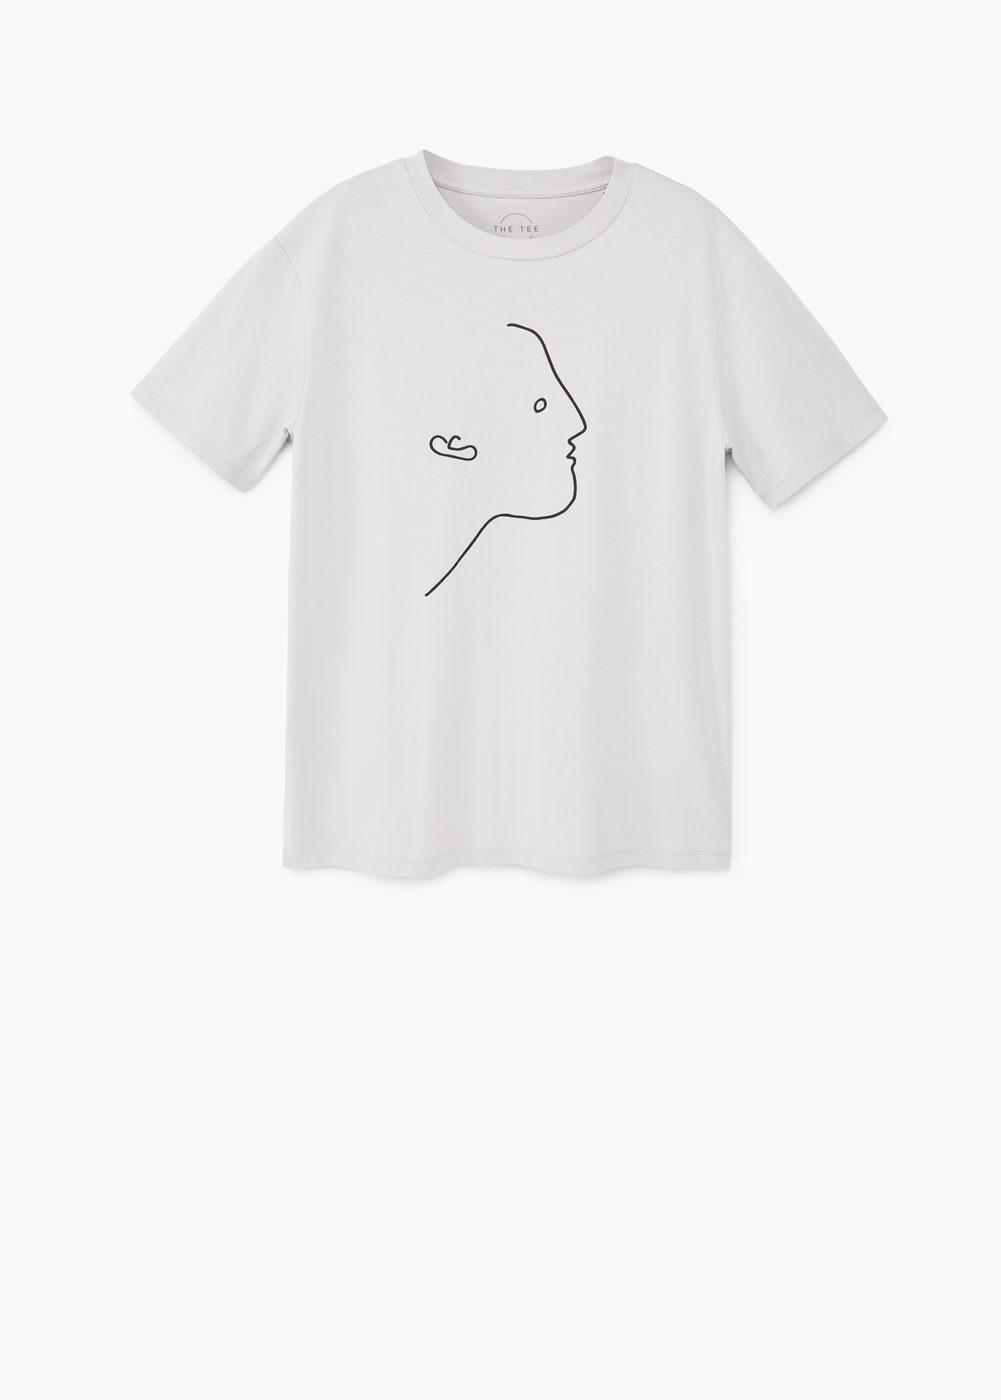teeshirt: (127, 135, 903, 912)
